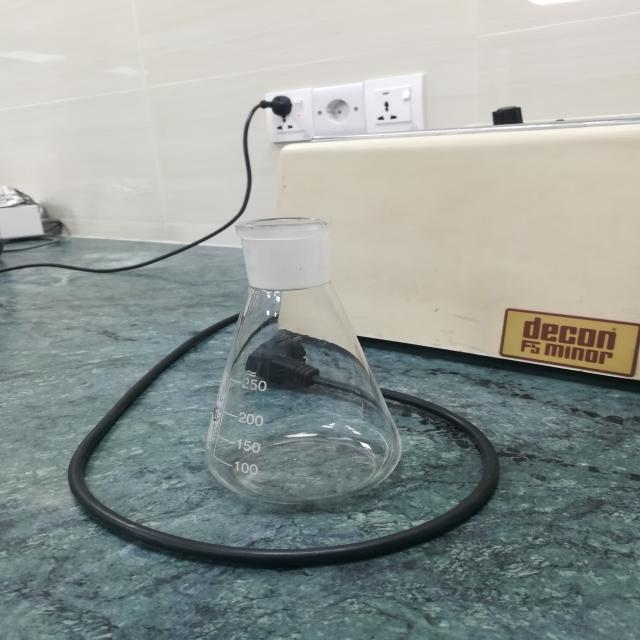Conical_Flask: (170, 182, 447, 518)
